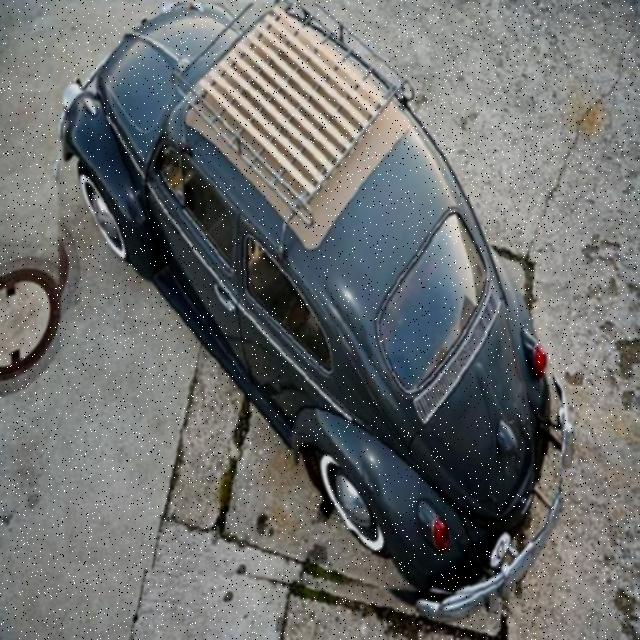car: (53, 4, 563, 605)
